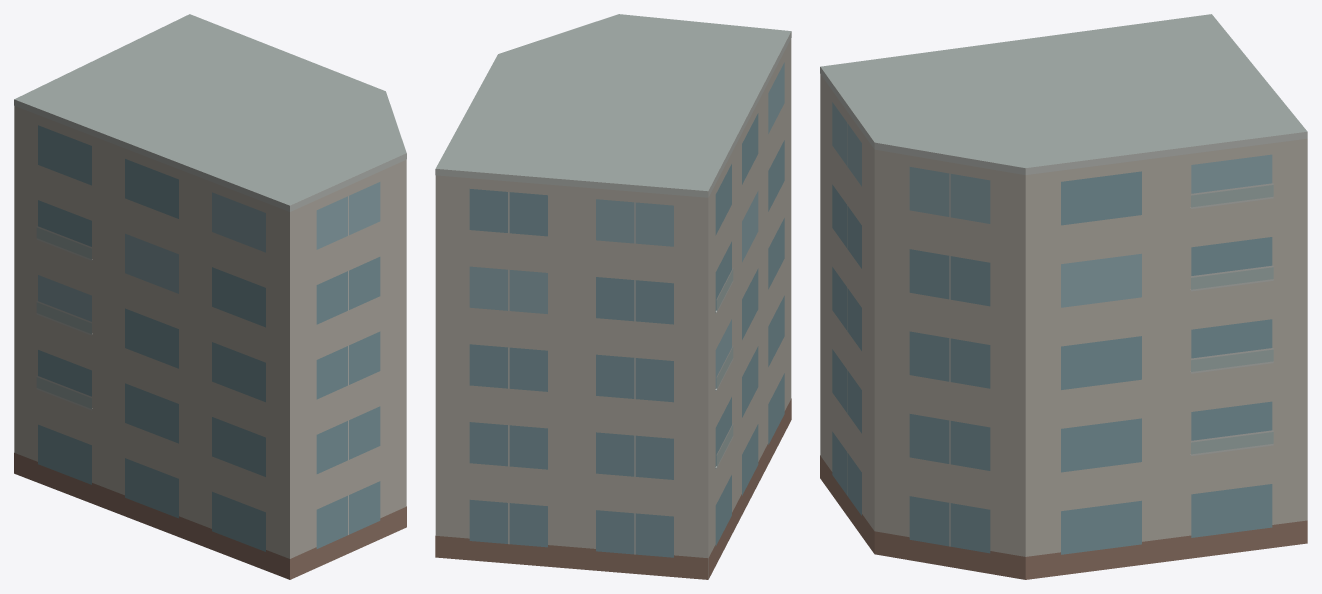
Rendered from survey-upis-32682148.glb.
3 renders of one model, left to right at view 1: azimuth 30°, elevation 25°; view 2: azimuth 150°, elevation 25°; view 3: azimuth 270°, elevation 25°, orthographic. The views are drawn at different scales.
Visible parts, largest first — view 1: survey-upis-32682148.tmp; view 2: survey-upis-32682148.tmp; view 3: survey-upis-32682148.tmp.
Part boxes in pixels (<box>): survey-upis-32682148.tmp: <box>14,14,406,579</box>; survey-upis-32682148.tmp: <box>435,14,791,579</box>; survey-upis-32682148.tmp: <box>820,14,1307,579</box>.
Size of the model in its own units: 11.55 by 14.37 by 15.43.
